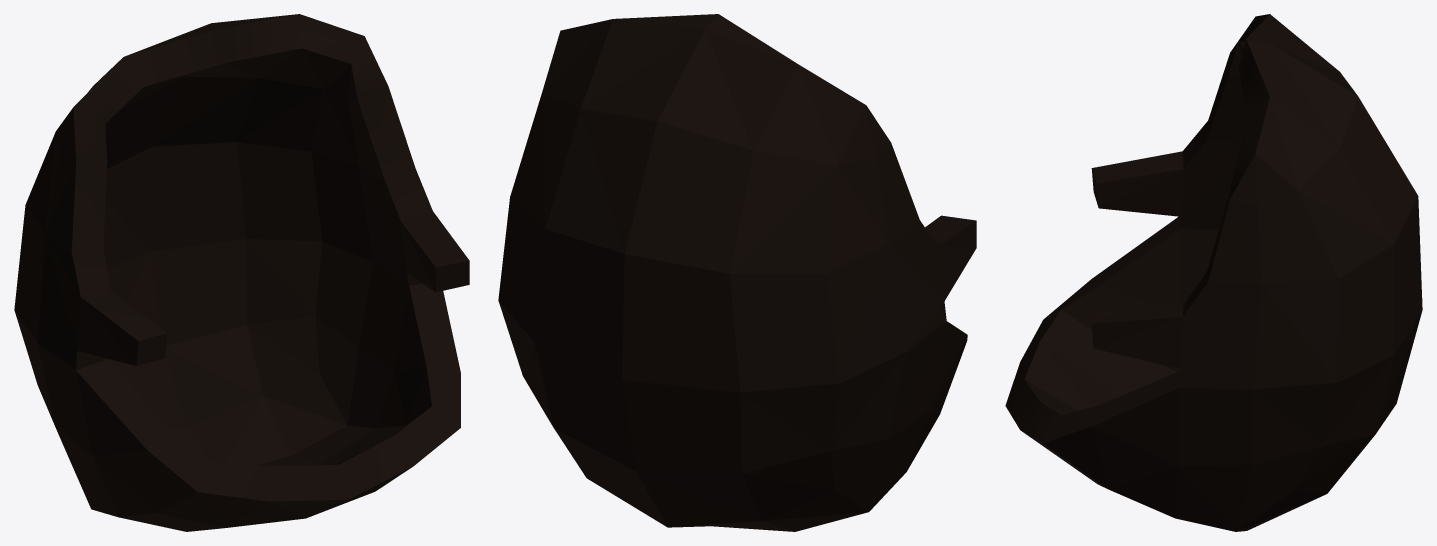
File: Hair Female 01.FBX
The picture shows the model from 3 angles, left to right: view 1: azimuth 30°, elevation 25°; view 2: azimuth 150°, elevation 25°; view 3: azimuth 270°, elevation 25°; orthographic projection. The views are drawn at different scales.
Visible parts, largest first — view 1: Hair Female 01; view 2: Hair Female 01; view 3: Hair Female 01.
Part boxes in pixels (<box>): Hair Female 01: <box>14,14,469,531</box>; Hair Female 01: <box>498,14,976,531</box>; Hair Female 01: <box>1005,14,1422,531</box>.
Bounding box in the file's own units: 26.57 × 33.55 × 27.28.
